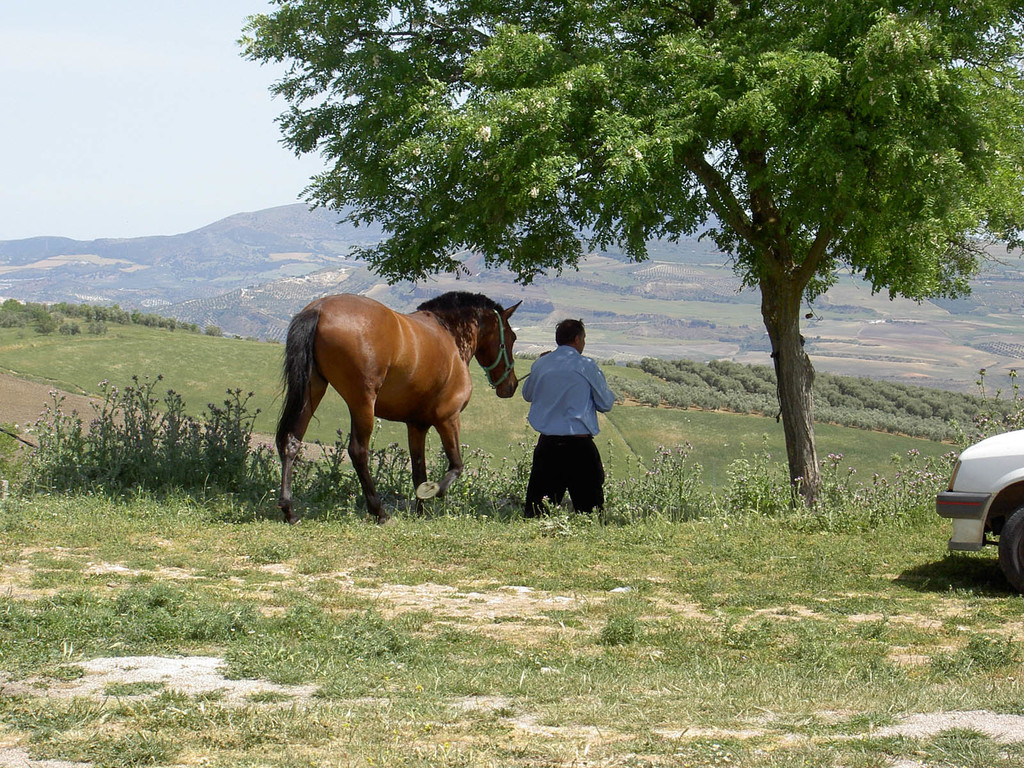horse: (269, 291, 527, 521)
